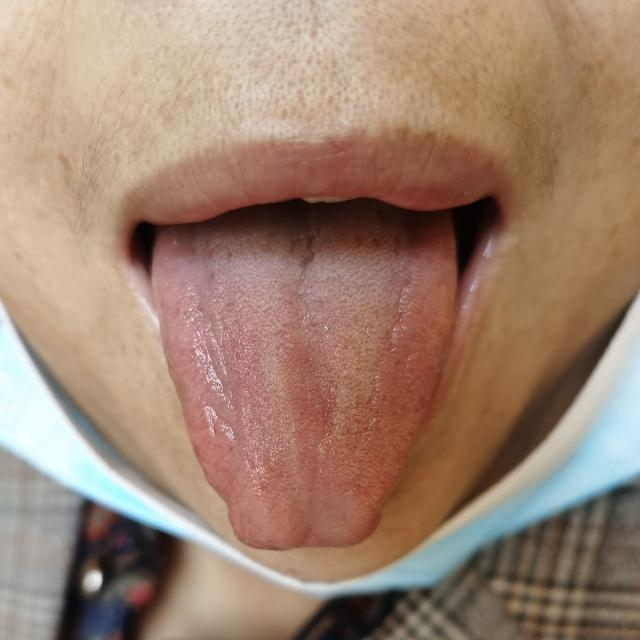baitaishe: (150, 226, 455, 552)
